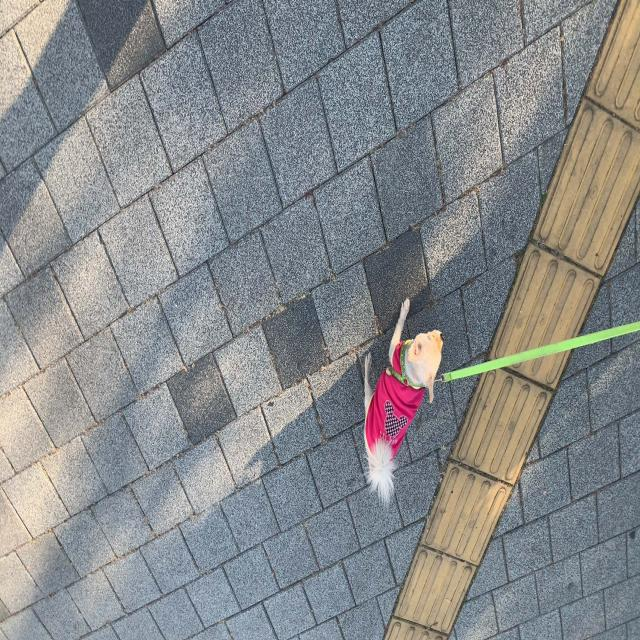Dog: (192, 131, 280, 345)
